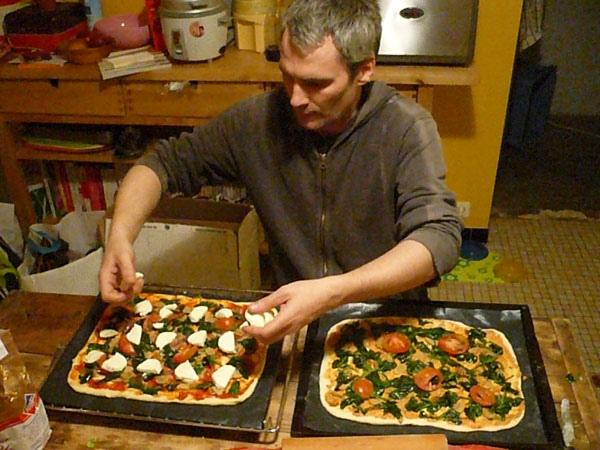tomato: (438, 333, 470, 355), (414, 368, 442, 392), (382, 332, 410, 353), (470, 386, 496, 406), (118, 332, 136, 356), (174, 346, 198, 363), (354, 380, 374, 398), (214, 317, 235, 328), (204, 364, 216, 382), (142, 317, 152, 333), (240, 305, 248, 317)
